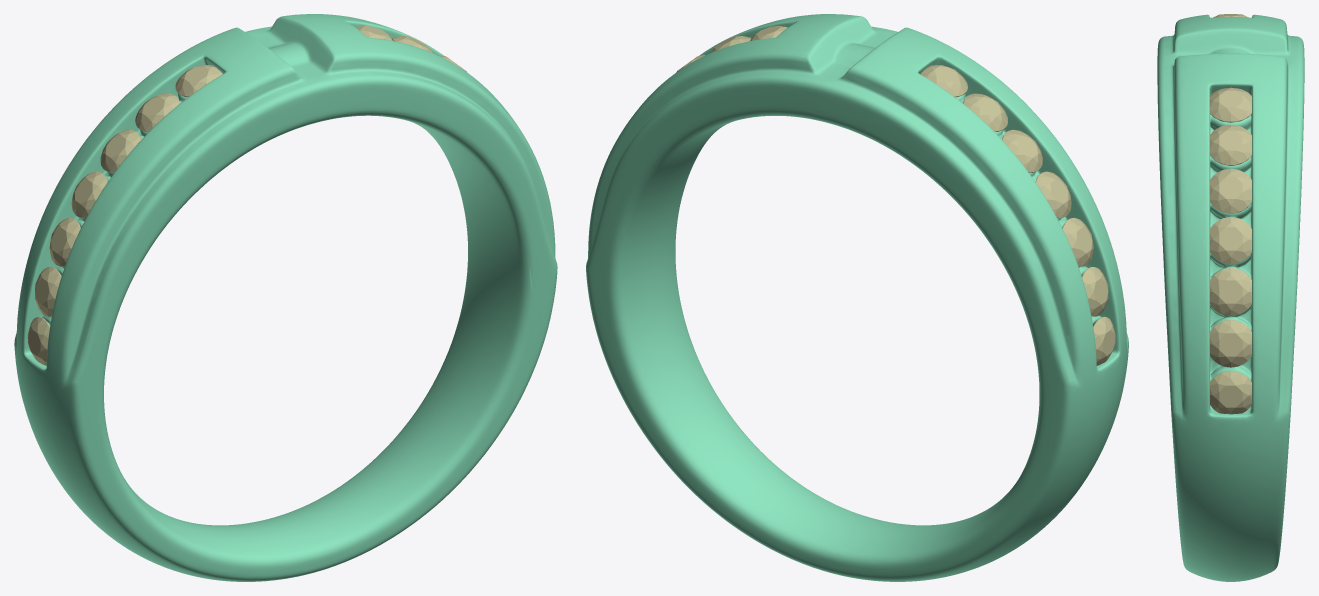
3 renders of one model, left to right at view 1: azimuth 30°, elevation 25°; view 2: azimuth 150°, elevation 25°; view 3: azimuth 270°, elevation 25°, orthographic. The views are drawn at different scales.
Parts seen in each view (by area): view 1: Metal02, Diamond_Gem.010, Diamond_Gem.011, Diamond_Gem.012, Diamond_Gem.009, Diamond_Gem.008, Diamond_Gem.013, Diamond_Gem.007; view 2: Metal02, Diamond_Gem.010, Diamond_Gem.011, Diamond_Gem.009, Diamond_Gem.012, Diamond_Gem.008, Diamond_Gem.013, Diamond_Gem.007; view 3: Metal02, Diamond_Gem.004, Diamond_Gem.005, Diamond_Gem.003, Diamond_Gem.002, Diamond_Gem.006, Diamond_Gem.001, Diamond_Gem.
Part boxes in pixels (x1,y1,x2,y2): Metal02: (14, 14, 557, 581); Diamond_Gem.010: (71, 171, 107, 218); Diamond_Gem.011: (100, 129, 141, 172); Diamond_Gem.012: (135, 93, 179, 131); Diamond_Gem.009: (49, 217, 80, 266); Diamond_Gem.008: (35, 267, 61, 316); Diamond_Gem.013: (175, 65, 222, 97); Diamond_Gem.007: (27, 316, 50, 365); Metal02: (586, 14, 1128, 581); Diamond_Gem.010: (1035, 171, 1071, 218); Diamond_Gem.011: (1002, 129, 1042, 172); Diamond_Gem.009: (1062, 218, 1093, 266); Diamond_Gem.012: (963, 93, 1007, 131); Diamond_Gem.008: (1082, 267, 1108, 316); Diamond_Gem.013: (920, 65, 967, 97); Diamond_Gem.007: (1093, 316, 1115, 365); Metal02: (1157, 14, 1304, 581); Diamond_Gem.004: (1210, 268, 1251, 316); Diamond_Gem.005: (1210, 320, 1251, 367); Diamond_Gem.003: (1210, 217, 1251, 264); Diamond_Gem.002: (1210, 168, 1251, 213); Diamond_Gem.006: (1210, 371, 1251, 414); Diamond_Gem.001: (1210, 124, 1251, 165); Diamond_Gem: (1210, 87, 1251, 122).
Size of the model in its own units: 21.69 by 21.83 by 5.66.
